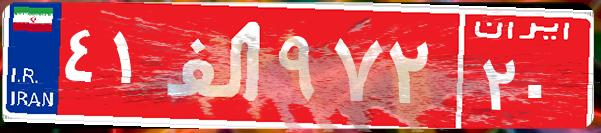0: (525, 38, 570, 115)
1: (110, 28, 158, 105)
2: (385, 28, 445, 110), (475, 38, 525, 113)
4: (57, 26, 110, 107)
7: (330, 28, 385, 110)
9: (273, 28, 330, 110)
الف: (158, 15, 273, 115)
